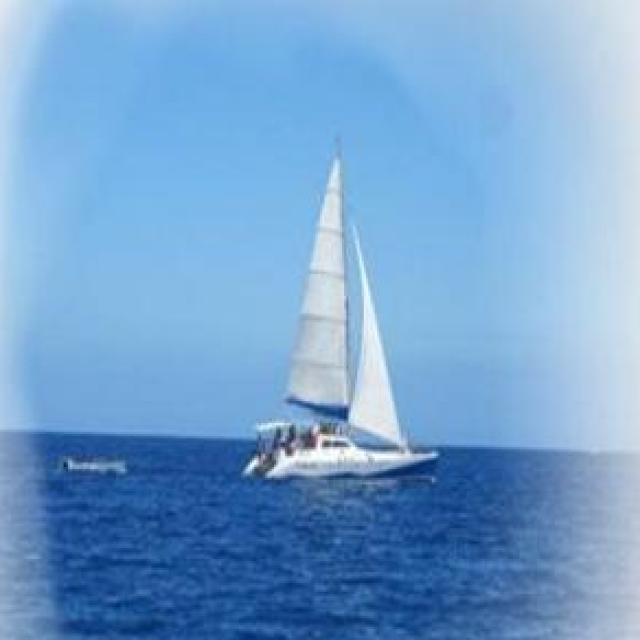sailboat: (233, 145, 438, 481)
